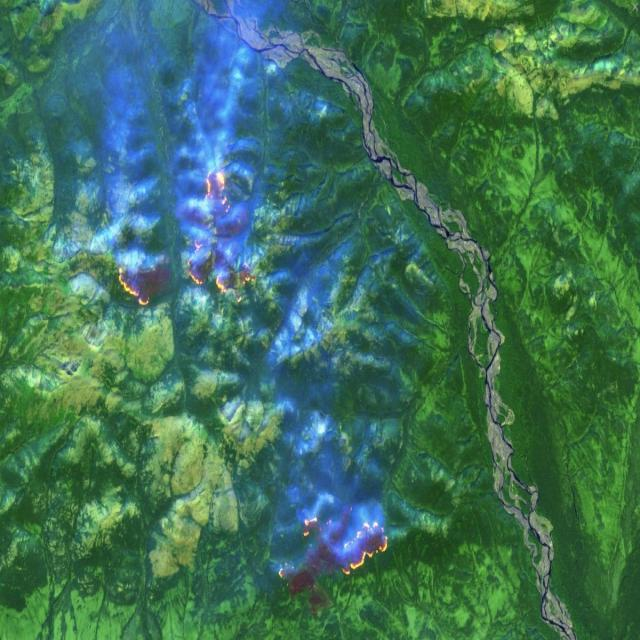fire: (112, 163, 264, 308), (298, 505, 392, 581)
